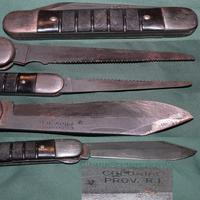knife: (3, 98, 195, 134), (1, 133, 198, 166), (8, 35, 200, 68), (8, 68, 197, 97)
